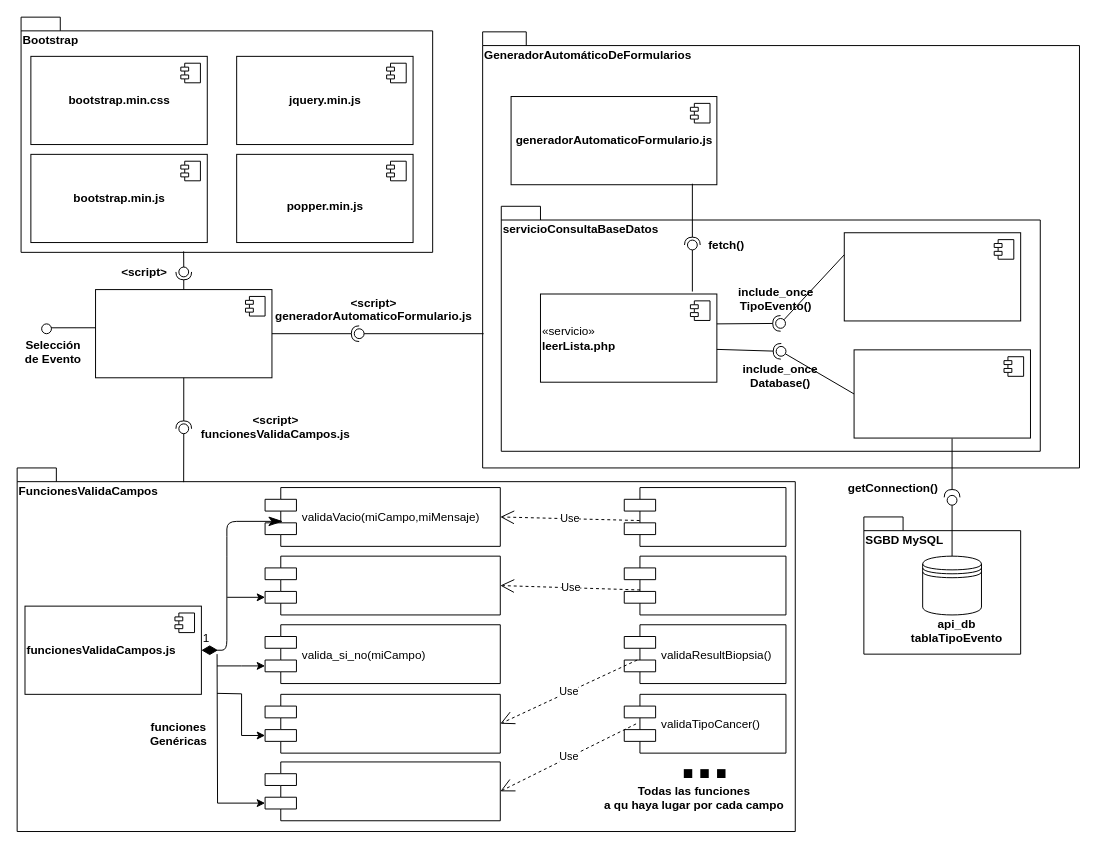
Some shapes in this 1097 by 849 pixel diagram are drawn without their labels. The shapes that lost their labels are listed below. From the top down, each one's centre as x and y in pixels, then its label:
At point 932,276: "tipoEventoLista.php".
At point 183,333: "index.html".
At point 941,393: "database.php".
At point 704,516: "validaGradHisto()".
At point 382,585: "validaFechaSuperior(miCampo)".
At point 704,585: "validaFechaProCo()".
At point 382,723: "valida_1_2(miCampo,miMensaje)".
At point 382,791: "valida_1_3(miCampo,miMensaje)".
